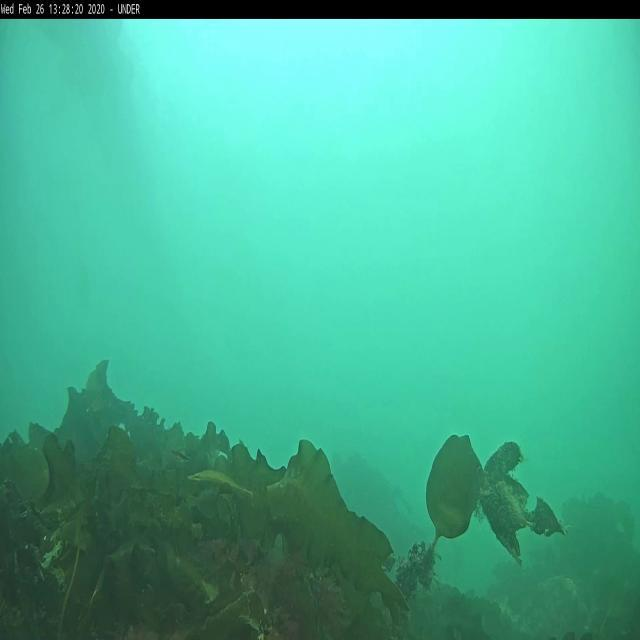fish: (188, 471, 254, 503), (170, 447, 190, 464)
